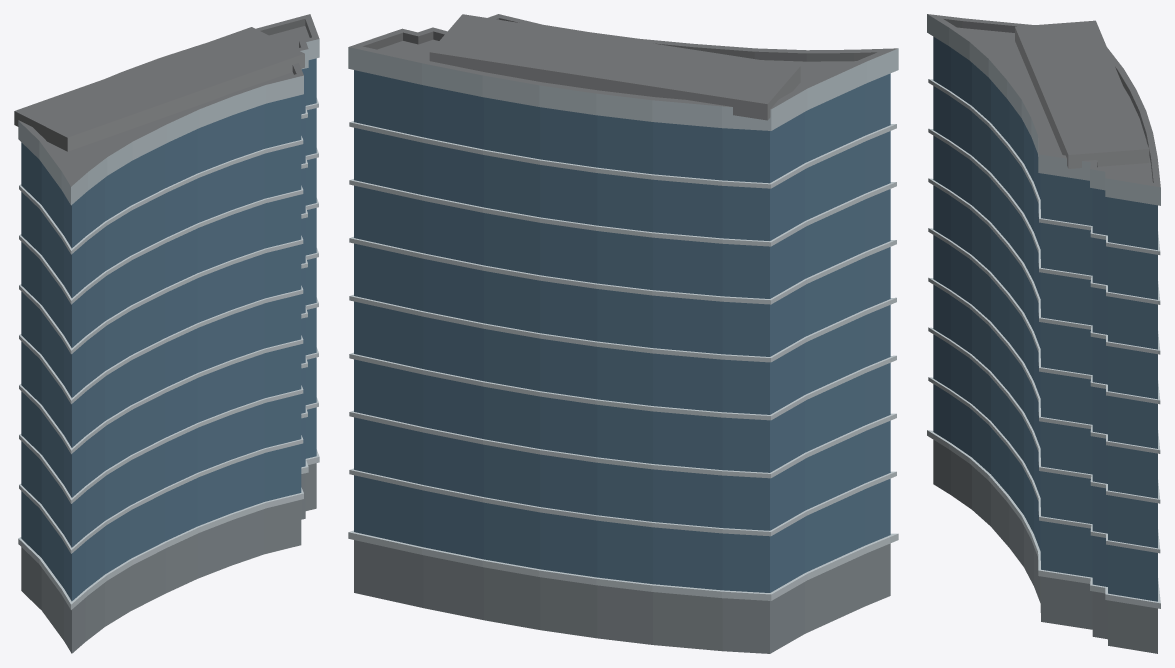
The model's file is aria_resort_casino_w134930088.glb.
The picture shows the model from 3 angles, left to right: view 1: azimuth 30°, elevation 25°; view 2: azimuth 150°, elevation 25°; view 3: azimuth 270°, elevation 25°; orthographic projection. The views are drawn at different scales.
Parts seen in each view (by area): view 1: Resort_w134930088; view 2: Resort_w134930088; view 3: Resort_w134930088.
Part boxes in pixels (<box>): Resort_w134930088: <box>14,14,319,653</box>; Resort_w134930088: <box>348,14,898,653</box>; Resort_w134930088: <box>927,14,1160,653</box>.
Bounding box in the file's own units: 79.74 × 102 × 45.45.
